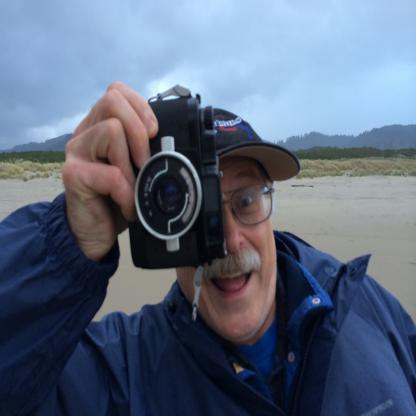Camera: (124, 94, 229, 270)
